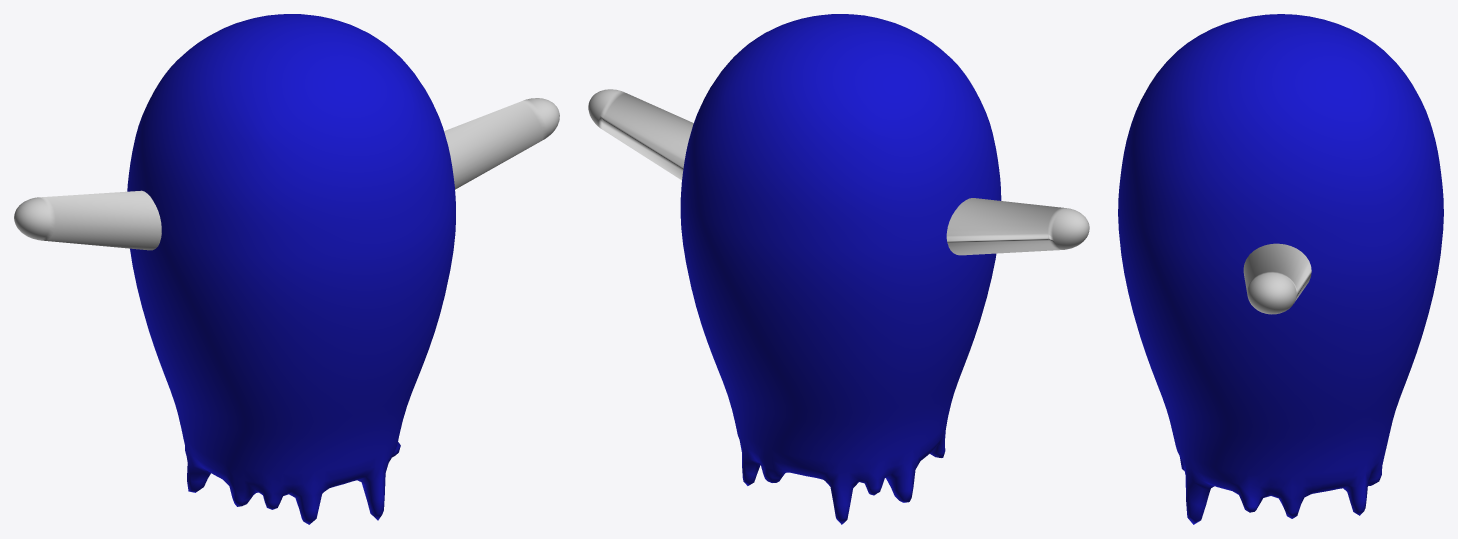
File: beforeThrow_000018.obj
3 views of the same model, side by side, from view 1: azimuth 30°, elevation 25°; view 2: azimuth 150°, elevation 25°; view 3: azimuth 270°, elevation 25° (orthographic). The views are drawn at different scales.
Parts seen in each view (by area): view 1: Cube, Sphere.001, Sphere; view 2: Cube, Sphere.001, Sphere; view 3: Cube, Sphere.
Boxes of the visible parts, x1,y1,x2,y2 form: Cube: (127, 14, 455, 524); Sphere.001: (14, 190, 161, 250); Sphere: (444, 98, 559, 189); Cube: (680, 14, 1001, 524); Sphere.001: (946, 198, 1089, 255); Sphere: (588, 89, 693, 180); Cube: (1118, 14, 1443, 524); Sphere: (1243, 243, 1311, 314).
Bounding box in the file's own units: 0.536 × 0.4582 × 0.2859.
